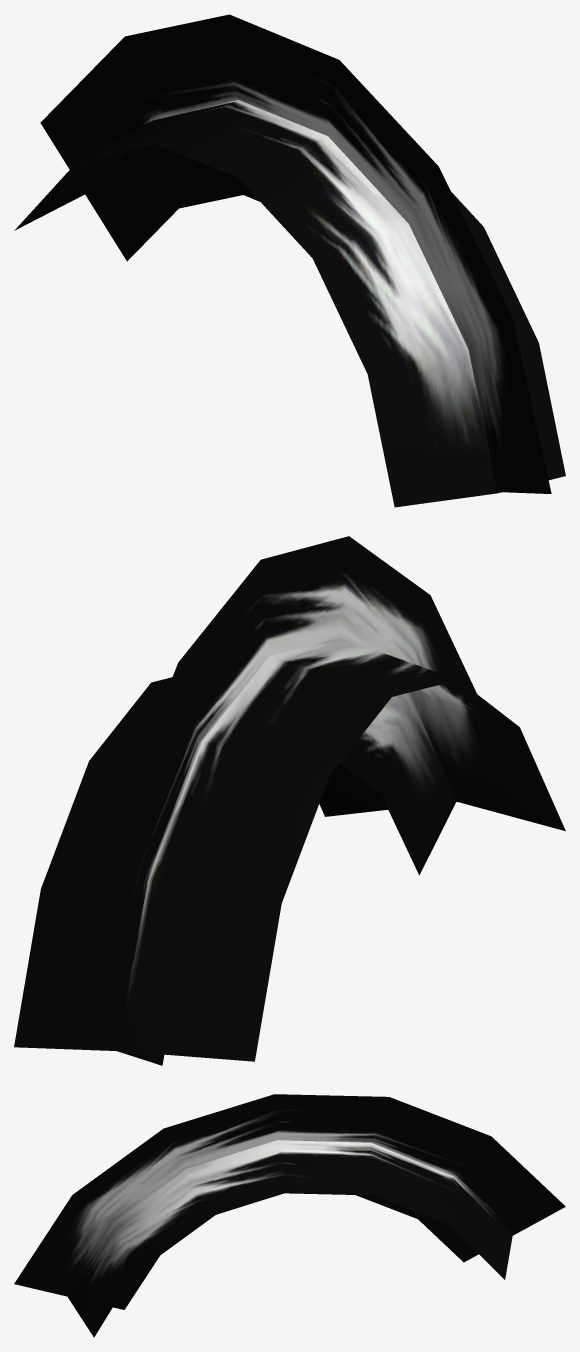
File: Effect_3001attack_S #079432.fbx
3 renders of one model, top to bottom at view 1: azimuth 30°, elevation 25°; view 2: azimuth 150°, elevation 25°; view 3: azimuth 270°, elevation 25°, orthographic. The views are drawn at different scales.
Visible parts, largest first — view 1: Effect_3001tattack01; view 2: Effect_3001tattack01; view 3: Effect_3001tattack01.
Boxes of the visible parts, x1,y1,x2,y2 form: Effect_3001tattack01: (14, 14, 565, 507); Effect_3001tattack01: (14, 536, 565, 1065); Effect_3001tattack01: (14, 1094, 565, 1337).
Size of the model in its own units: 11.86 by 15.32 by 34.78.
Materials: 3 (3 with a texture image).
